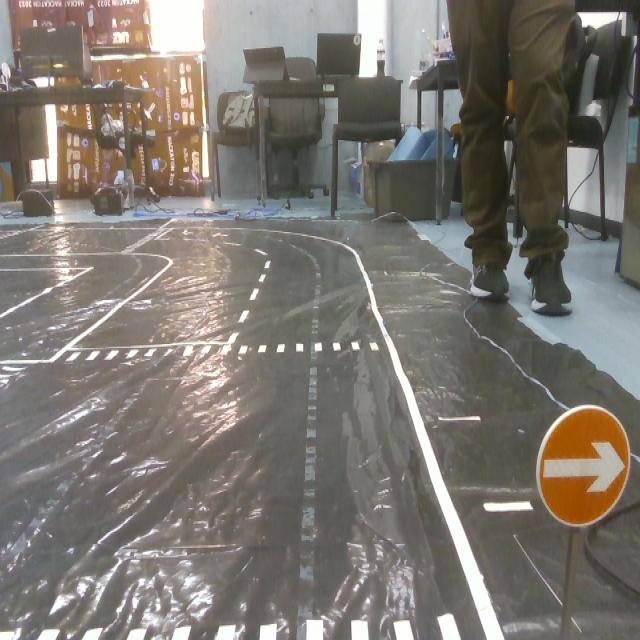left_turn: (526, 401, 632, 536)
